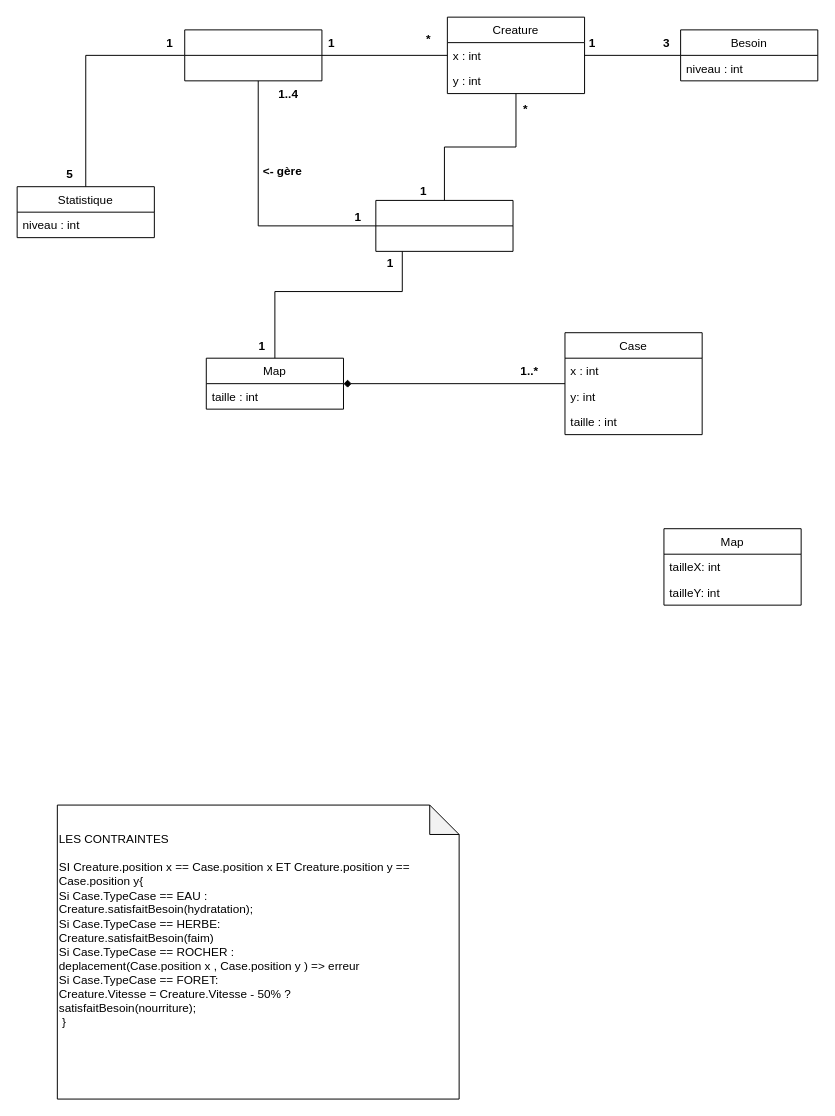
Image size: 835x1116. Some labels were removed from this diagram. The shapes that lost their labels are listed below. From the top down, each one's centre as x and y in pixels, then its label:
At point (253, 55): "Joueur".
At point (444, 225): "Moteur de jeu".
